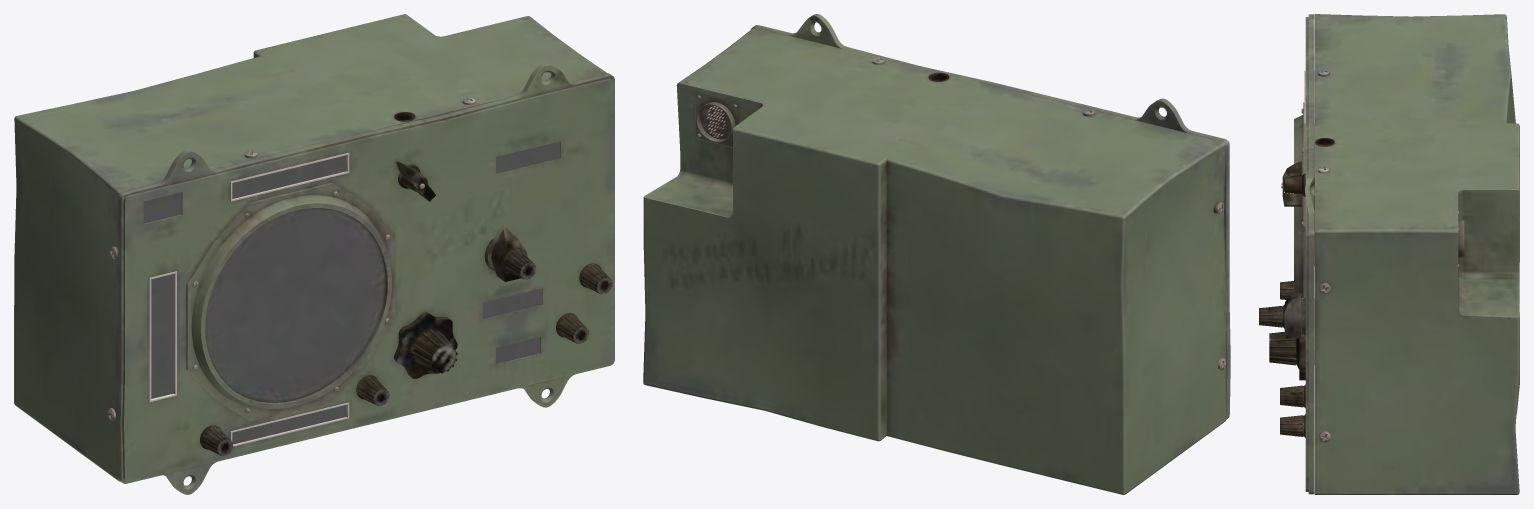
Rendered from vintage_spacecraft_instrument.glb.
3 views of the same model, side by side, from view 1: azimuth 30°, elevation 25°; view 2: azimuth 150°, elevation 25°; view 3: azimuth 270°, elevation 25° (orthographic). The views are drawn at different scales.
Parts seen in each view (by area): view 1: vintage_spacecraft_instrument; view 2: vintage_spacecraft_instrument; view 3: vintage_spacecraft_instrument.
Part boxes in pixels (x1=…): vintage_spacecraft_instrument: x1=14, y1=14, x2=614, y2=494; vintage_spacecraft_instrument: x1=643, y1=14, x2=1230, y2=494; vintage_spacecraft_instrument: x1=1259, y1=14, x2=1519, y2=494.
Size of the model in its own units: 0.4103 by 0.2693 by 0.2044.
Materials: 2 (2 with a texture image).
